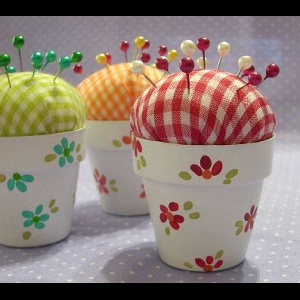flowerpot: (126, 123, 279, 276), (76, 91, 191, 228), (1, 113, 89, 251)
